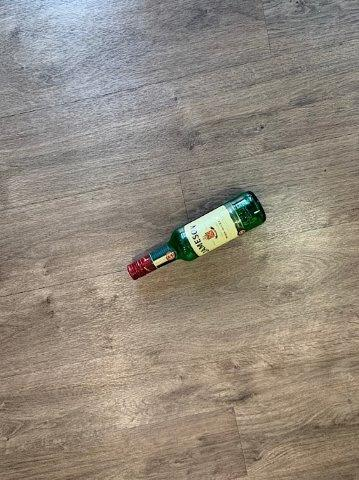botolkaca: (129, 192, 267, 279)
